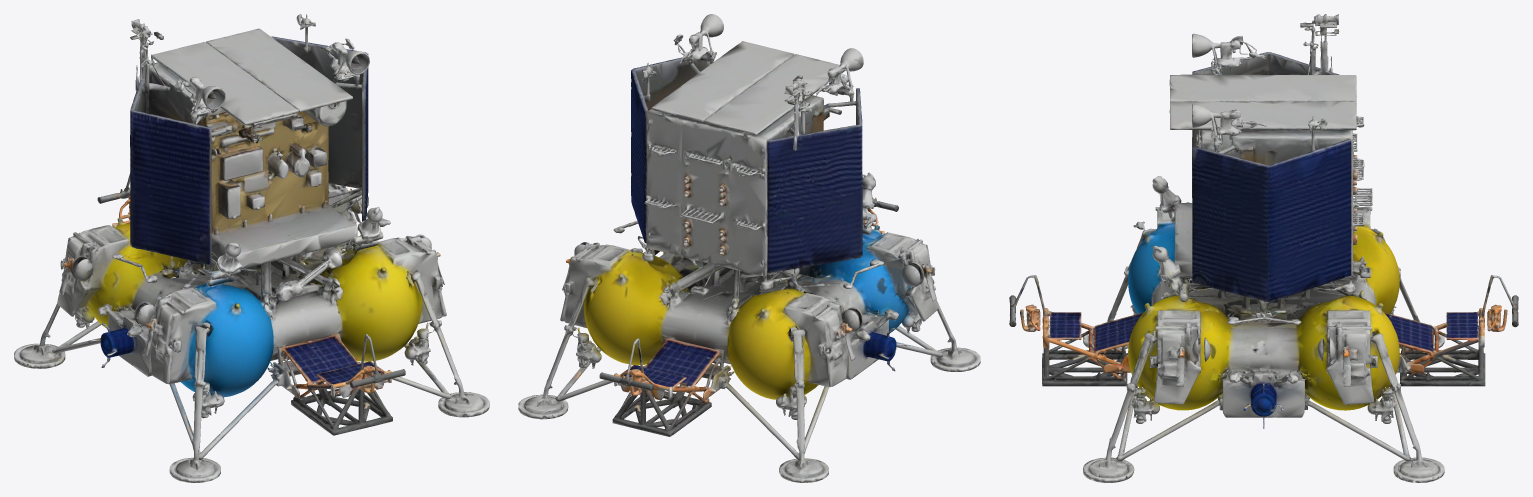
File: luna27.glb
3 renders of one model, left to right at view 1: azimuth 30°, elevation 25°; view 2: azimuth 150°, elevation 25°; view 3: azimuth 270°, elevation 25°, orthographic. The views are drawn at different scales.
Size of the model in its own units: 1.34 by 1.45 by 1.9.
1 material, 1 textured.
